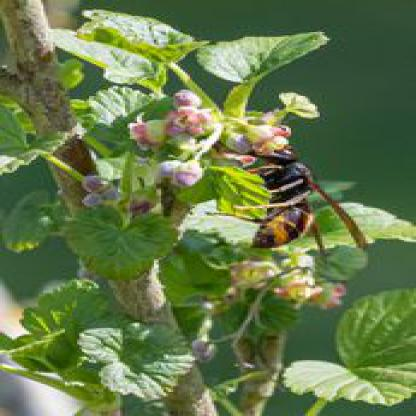Asian Hornet: (236, 119, 371, 280)
